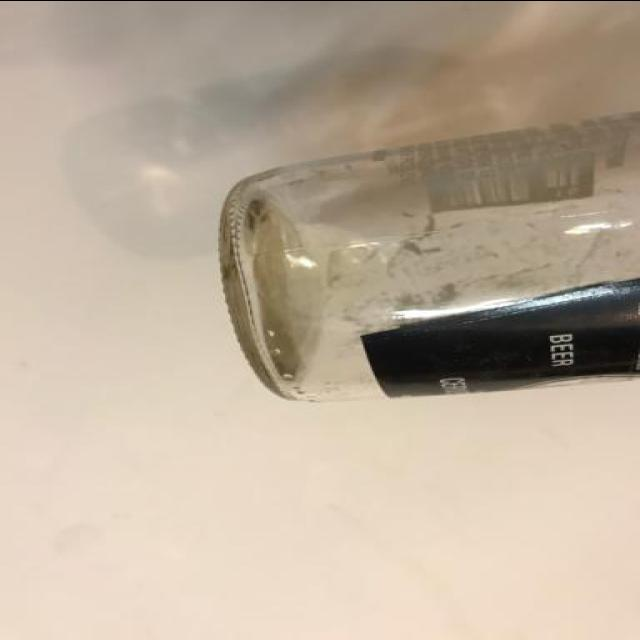litter: (216, 109, 636, 404)
